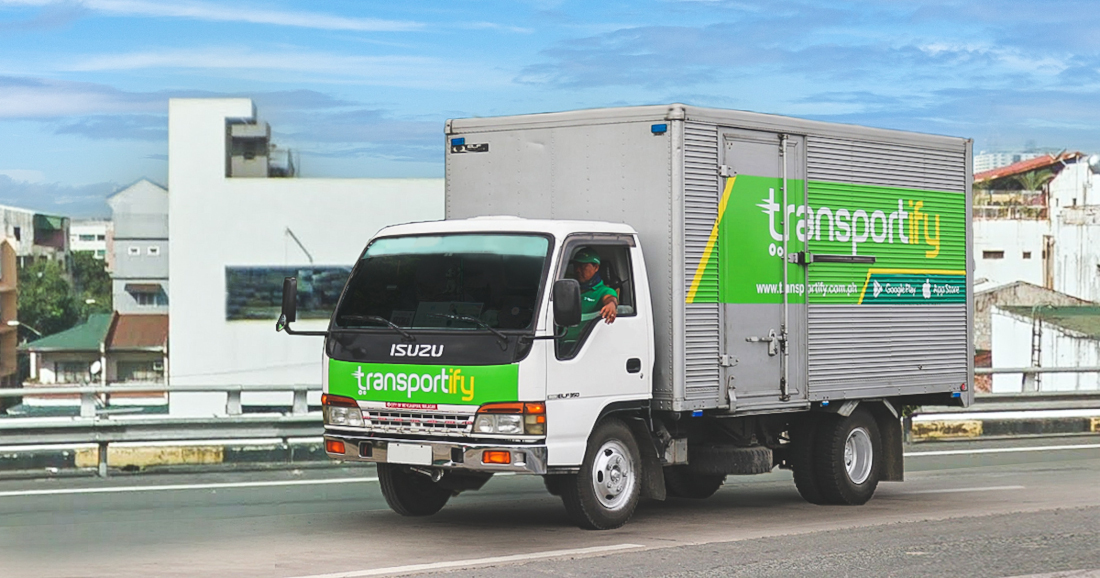truck: (276, 102, 975, 531)
